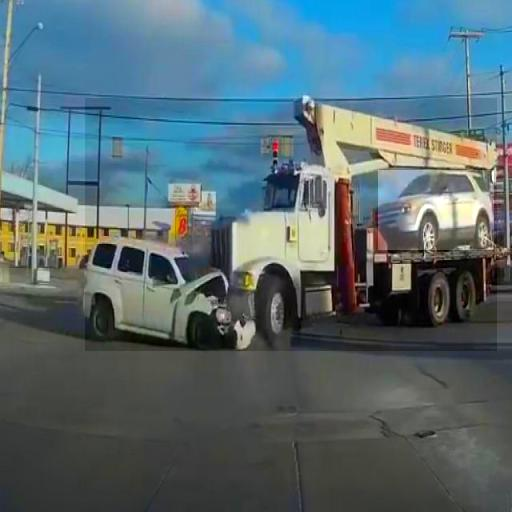小汽车: (378, 170, 494, 250)
小汽车撞小汽车: (85, 98, 497, 351)
